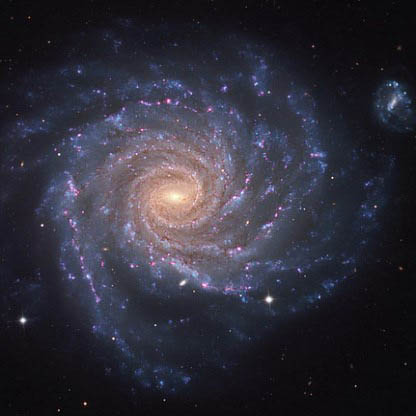NGC 1232: (17, 11, 410, 389)
